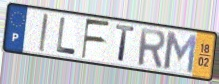F: (80, 18, 112, 60)
I: (38, 12, 50, 54)
L: (55, 16, 77, 57)
M: (162, 29, 198, 75)
R: (137, 26, 167, 70)
T: (115, 23, 137, 64)
